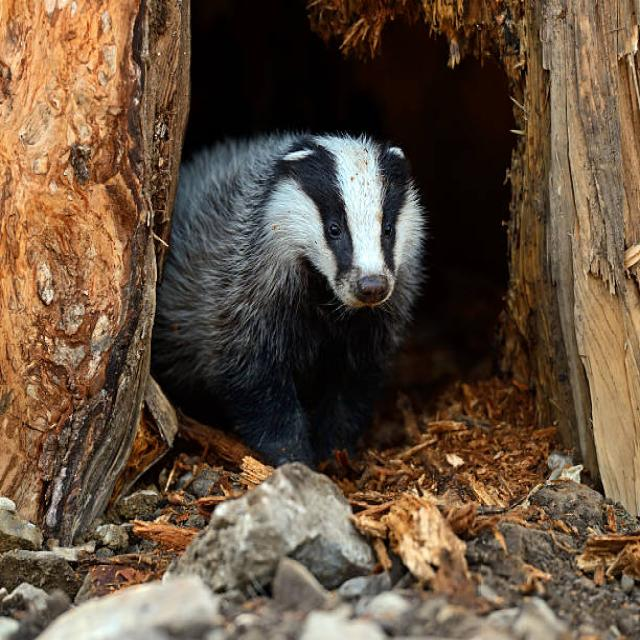Badger: (164, 132, 426, 441)
